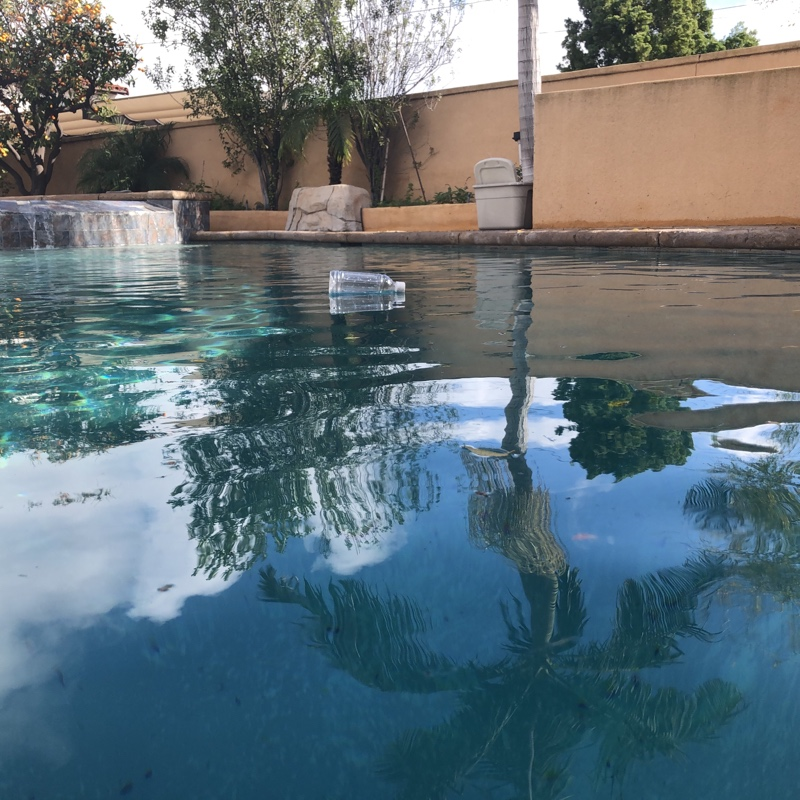Plastic Bottle: (328, 269, 407, 299)
